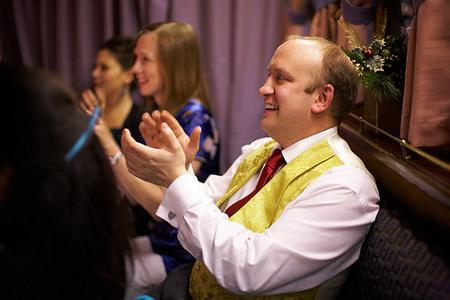person: (118, 36, 383, 300)
